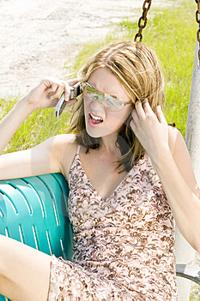person: (1, 42, 200, 300)
